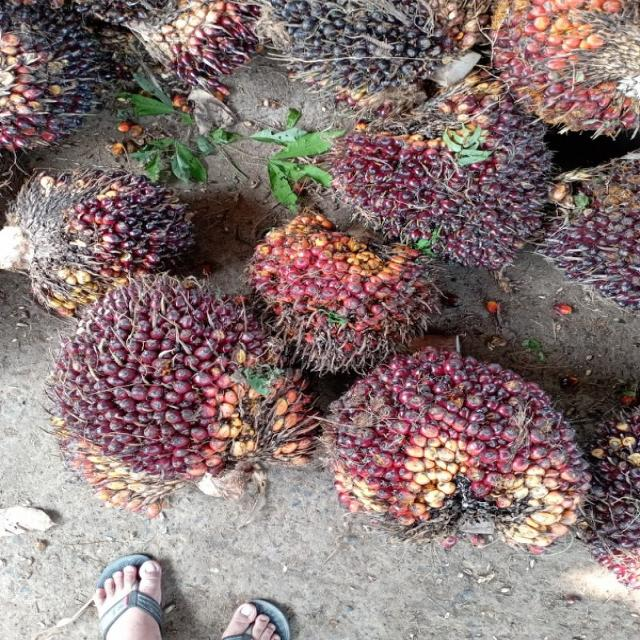fraksi 00: (230, 0, 493, 116)
fraksi 1: (299, 316, 606, 591), (45, 246, 290, 536), (243, 175, 425, 392)
